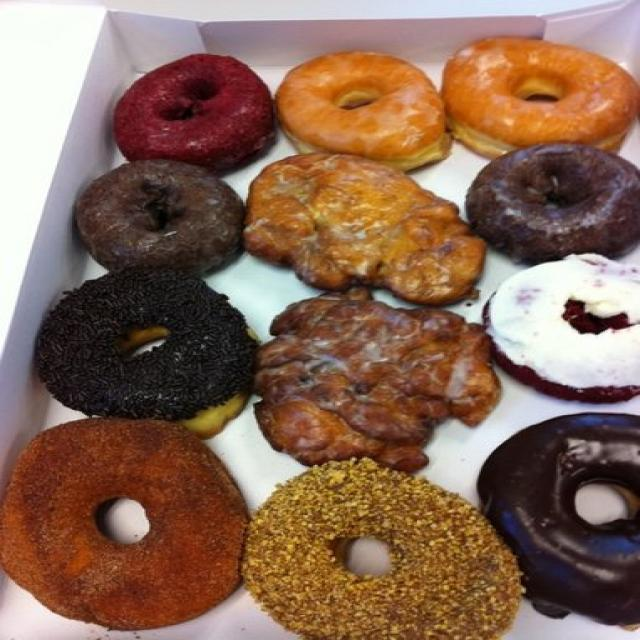Donuts: (6, 31, 640, 640)
